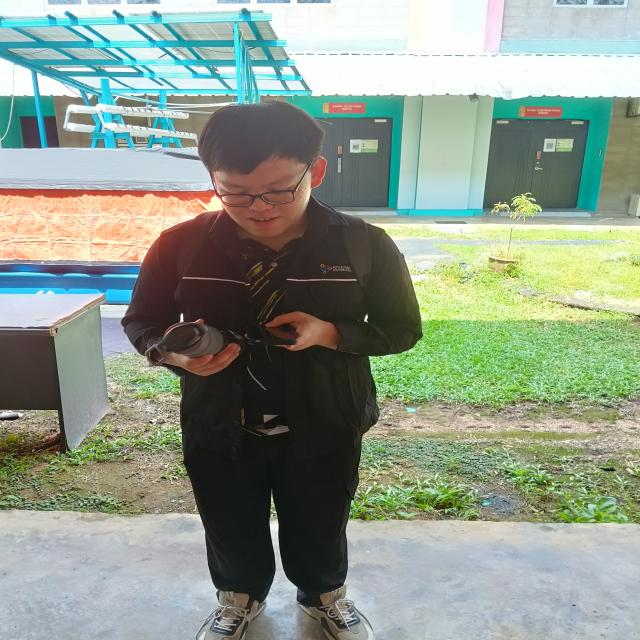person_with_labcoat: (122, 102, 422, 640)
